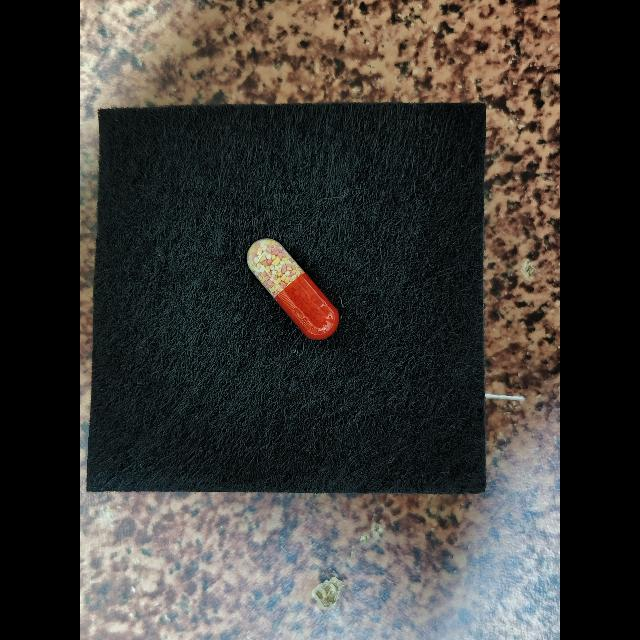Intact Capsule: (247, 238, 339, 339)
